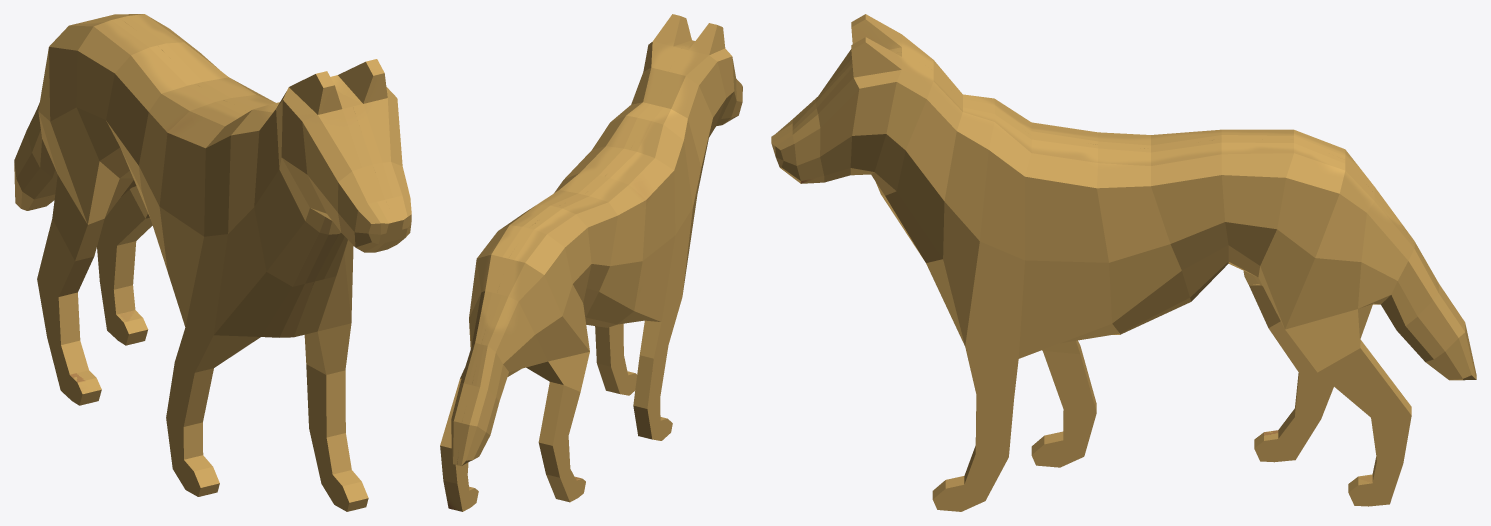
The model's file is DogWolf.fbx.
3 renders of one model, left to right at view 1: azimuth 30°, elevation 25°; view 2: azimuth 150°, elevation 25°; view 3: azimuth 270°, elevation 25°, orthographic. The views are drawn at different scales.
Parts seen in each view (by area): view 1: Plane; view 2: Plane; view 3: Plane.
Part boxes in pixels (x1=…): Plane: x1=14, y1=14, x2=411, y2=511; Plane: x1=440, y1=14, x2=742, y2=511; Plane: x1=771, y1=14, x2=1476, y2=511.
Bounding box in the file's own units: 150 × 602 × 841.
